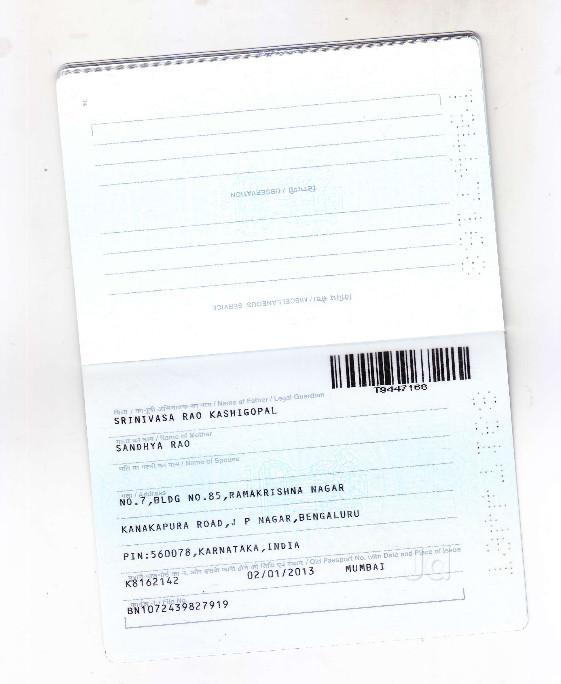File_no: (121, 598, 237, 620)
address: (113, 478, 364, 566)
father_name: (106, 396, 288, 432)
mother_name: (106, 433, 202, 467)
old_passport_details: (119, 554, 404, 596)
passport_no: (367, 383, 438, 403)
